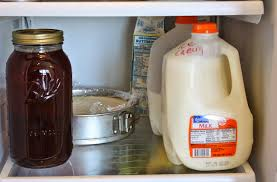milk: (167, 26, 253, 167)
